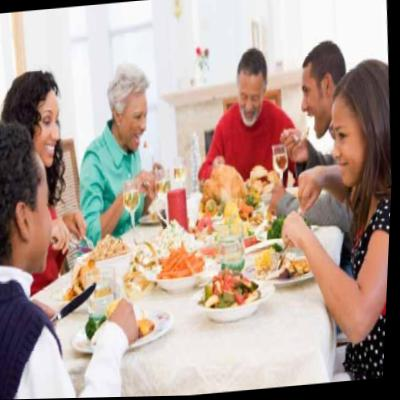happy: (328, 99, 368, 194), (298, 68, 332, 140), (36, 91, 65, 168), (237, 73, 266, 129), (126, 94, 150, 154)
